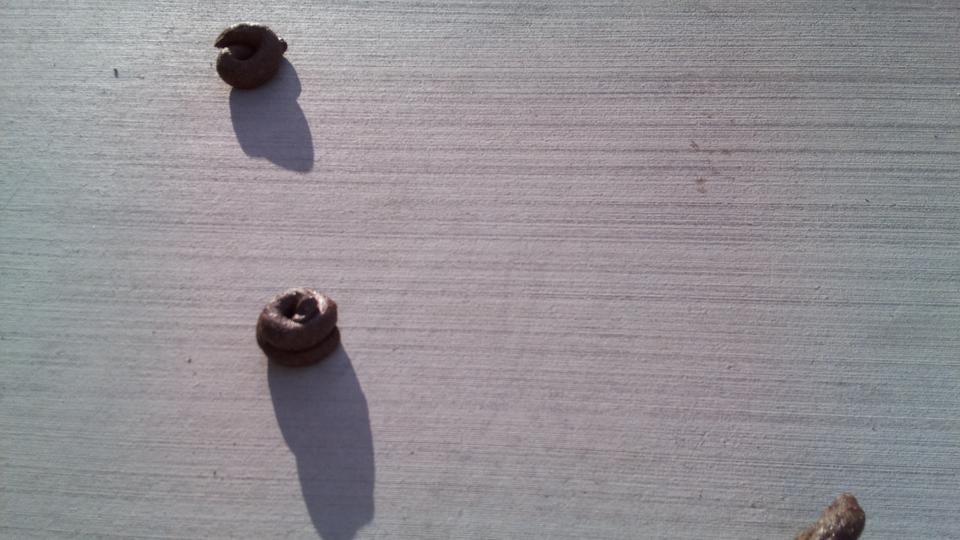poop: (251, 283, 344, 368), (208, 14, 289, 89), (795, 488, 868, 540)
